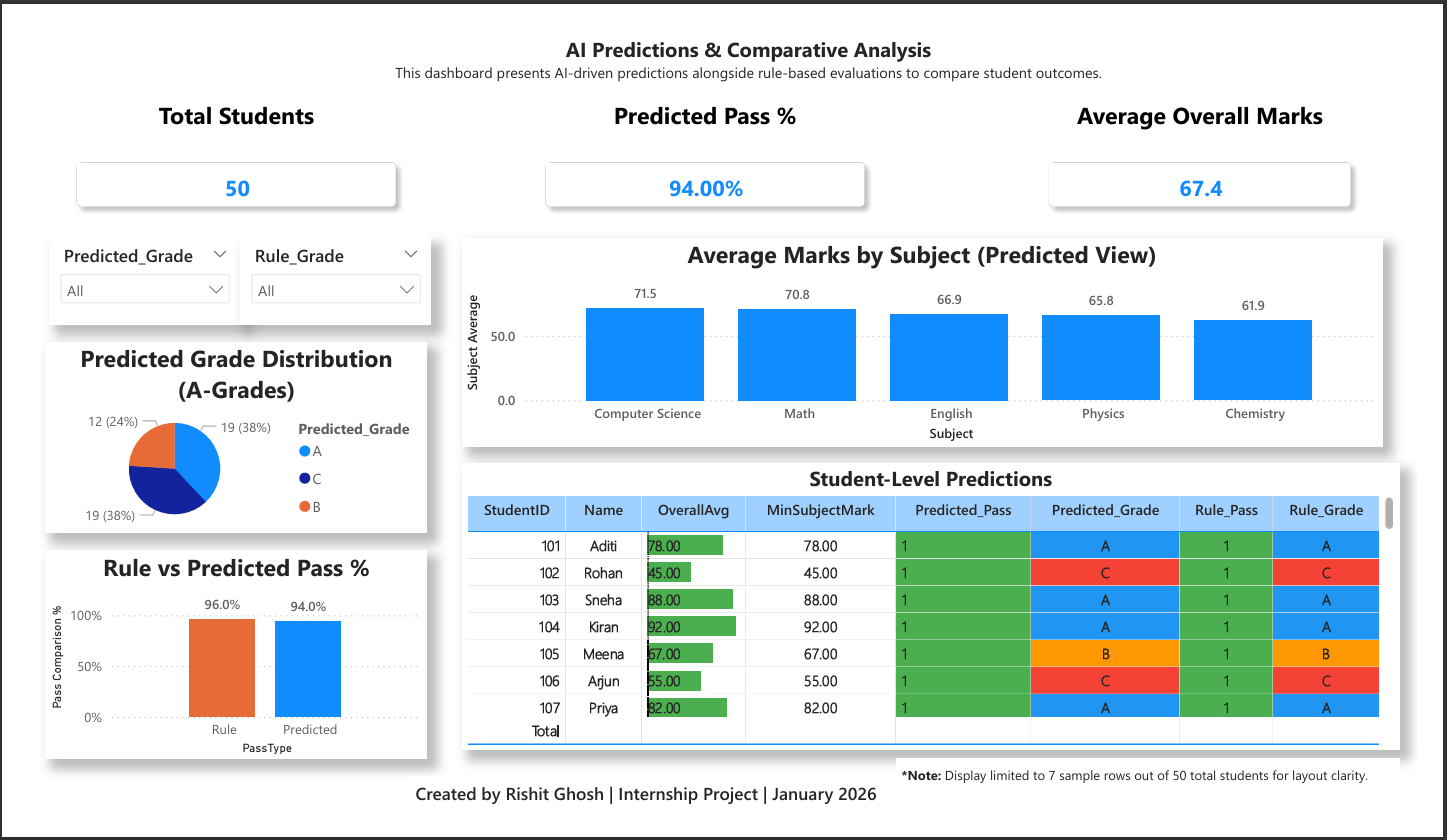

This screenshot's page, from the dashboard's own definition file:
{"tool":"powerbi","page":{"name":"AI Predictions & Automation","canvas":[1280,720],"ordinal":1},"visuals":[{"type":"slicer","fields":{"Values":["student_predictions_latest.Predicted_Grade"]},"box":[20.1,192.2,176,80],"z":0},{"type":"slicer","fields":{"Values":["student_predictions_latest.Rule_Grade"]},"box":[196.1,192.2,176,80],"z":1000},{"type":"cardVisual","title":"Total Students","fields":{"Data":["student_predictions_latest.Total Students"]},"box":[16,64,352,128],"z":2000},{"type":"cardVisual","title":"Predicted Pass %","fields":{"Data":["student_predictions_latest.Predicted Pass %"]},"box":[448,64,352,128],"z":3000},{"type":"cardVisual","title":"Average Overall Marks","fields":{"Data":["student_predictions_latest.Average Overall Marks"]},"box":[912,64,336,128],"z":4000},{"type":"pieChart","title":"Predicted Grade Distribution (A-Grades)","fields":{"Category":["student_predictions_latest.Predicted_Grade"],"Y":["student_predictions_latest.StudentID"]},"box":[16,288,352,176],"z":5000},{"type":"clusteredColumnChart","title":"Average Marks by Subject (Predicted View)","fields":{"Category":["SubjectAxis.Subject"],"Y":["student_predictions_latest.Subject Average"]},"box":[400,192,848,192],"z":6000},{"type":"clusteredColumnChart","title":"Rule vs Predicted Pass %","fields":{"Category":["PassTypeAxis.PassType"],"Y":["student_predictions_latest.Pass Comparison %"]},"box":[16,480,352,192],"z":7000},{"type":"tableEx","title":"Student-Level Predictions","fields":{"Values":["student_predictions_latest.StudentID","student_predictions_latest.Name","student_predictions_latest.OverallAvg","student_predictions_latest.MinSubjectMark","student_predictions_latest.Predicted_Pass","student_predictions_latest.Predicted_Grade","student_predictions_latest.Rule_Pass","student_predictions_latest.Rule_Grade"]},"box":[400,400,864,264],"z":8000},{"type":"textbox","box":[800,672,464,32],"z":9000},{"type":"textbox","box":[320,0,688,64],"z":10000},{"type":"textbox","box":[352,688,448,32],"z":11000}]}

Visuals, with their boxes on the page's 1280x720 design canvas (x1, y1, x2, y2). These are canvas units, not pixel positions in the 1447x840 screenshot, which may show the page scaled, cropped or inside an application window:
slicer - student_predictions_latest.Predicted_Grade: rect(20, 192, 196, 272)
slicer - student_predictions_latest.Rule_Grade: rect(196, 192, 372, 272)
"Total Students" cardVisual: rect(16, 64, 368, 192)
"Predicted Pass %" cardVisual: rect(448, 64, 800, 192)
"Average Overall Marks" cardVisual: rect(912, 64, 1248, 192)
"Predicted Grade Distribution (A-Grades)" pieChart: rect(16, 288, 368, 464)
"Average Marks by Subject (Predicted View)" clusteredColumnChart: rect(400, 192, 1248, 384)
"Rule vs Predicted Pass %" clusteredColumnChart: rect(16, 480, 368, 672)
"Student-Level Predictions" tableEx: rect(400, 400, 1264, 664)
textbox: rect(800, 672, 1264, 704)
textbox: rect(320, 0, 1008, 64)
textbox: rect(352, 688, 800, 720)
